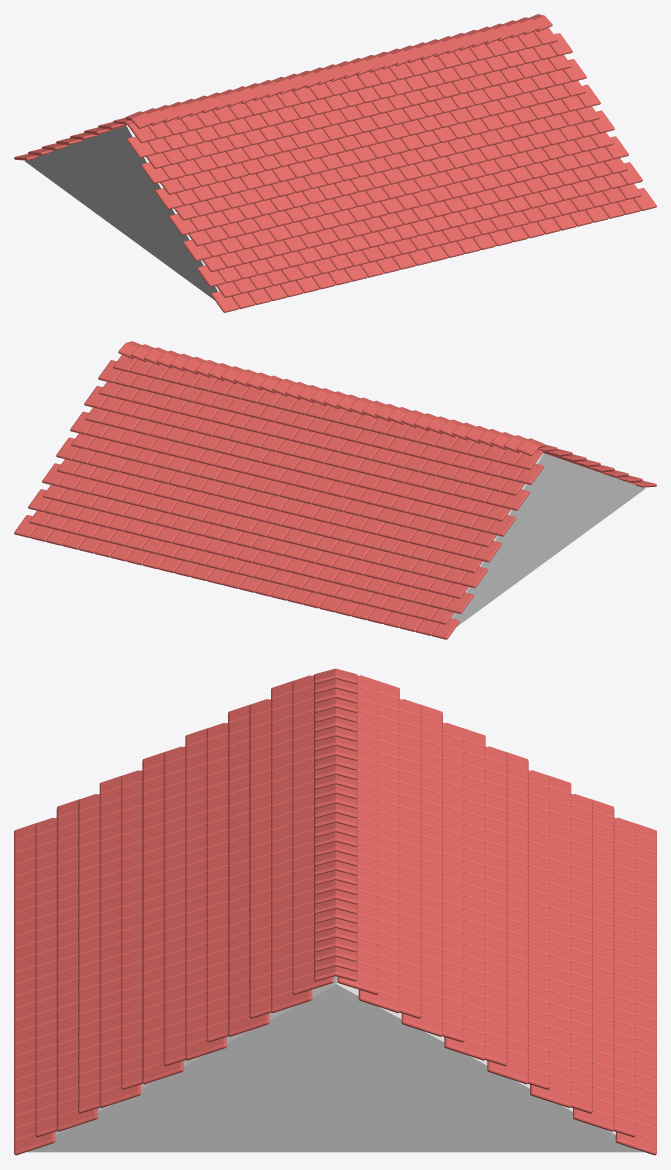
File: Asset025_Telhado.fbx
The picture shows the model from 3 angles, top to bottom: view 1: azimuth 30°, elevation 25°; view 2: azimuth 150°, elevation 25°; view 3: azimuth 270°, elevation 25°; orthographic projection. The views are drawn at different scales.
Parts seen in each view (by area): view 1: Cloner_1, Continuaçao_Parede; view 2: Cloner_1, Continuaçao_Parede; view 3: Cloner_1, Continuaçao_Parede.
Part boxes in pixels (left/top/right/bottom): Cloner_1: left=14, top=14, right=656, bottom=312; Continuaçao_Parede: left=25, top=125, right=219, bottom=299; Cloner_1: left=14, top=341, right=656, bottom=639; Continuaçao_Parede: left=451, top=453, right=645, bottom=626; Cloner_1: left=14, top=668, right=656, bottom=1155; Continuaçao_Parede: left=26, top=976, right=644, bottom=1152.
Bounding box in the file's own units: 135 × 35.15 × 114.
